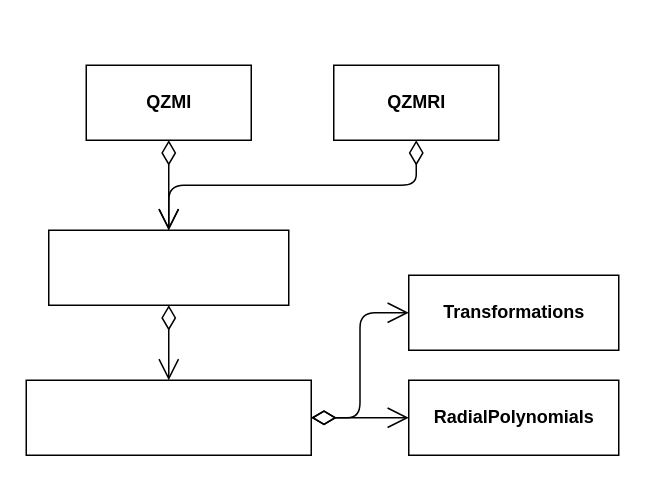
Image size: 671x482. Some labels were removed from this diagram. The centre of each missing label's shape, as x and y in pixels:
"ZernikeMomentsColor" belongs at (168,267).
"ZernikeMomentsMonochrome" belongs at (168,417).
